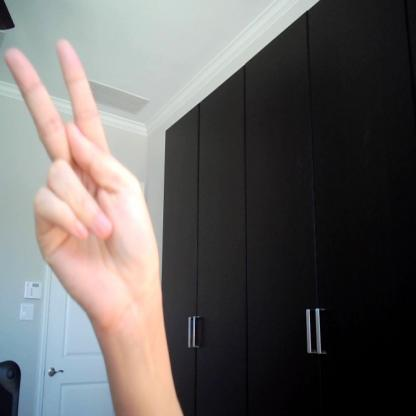K: (3, 35, 161, 327)
